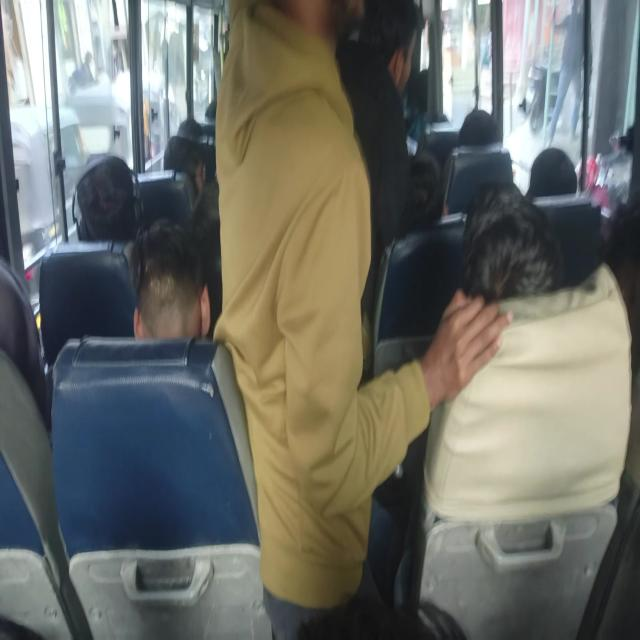person: (126, 225, 278, 620), (338, 0, 422, 289), (458, 184, 566, 306), (602, 197, 640, 503), (0, 249, 49, 434), (295, 590, 457, 640), (128, 233, 209, 328), (440, 107, 511, 213), (73, 154, 142, 243), (165, 131, 213, 215), (526, 146, 579, 200), (458, 109, 499, 143), (405, 67, 426, 118), (175, 116, 207, 143), (204, 100, 218, 122)
